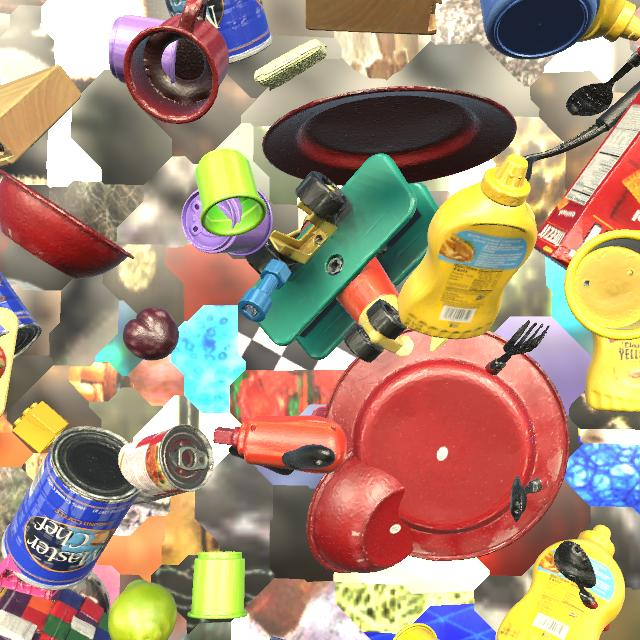ycb_002_master_chef_can: (1, 426, 143, 590), (165, 0, 273, 64), (0, 271, 42, 359)
ycb_003_cracker_box: (534, 92, 640, 285)
ycb_005_tomato_soup_can: (118, 424, 214, 504)
ycb_006_mustard_bottle: (397, 154, 537, 339), (497, 525, 625, 640), (585, 230, 640, 412), (578, 0, 640, 42)
ycb_016_pear: (108, 579, 177, 640)
ycb_018_plum: (123, 307, 179, 361)
